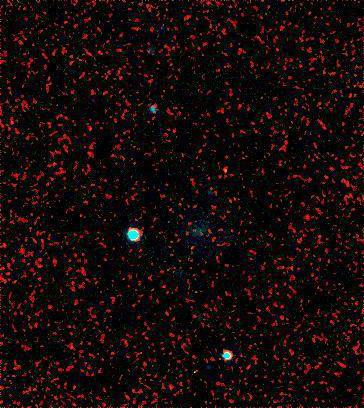star: (212, 158, 242, 188)
